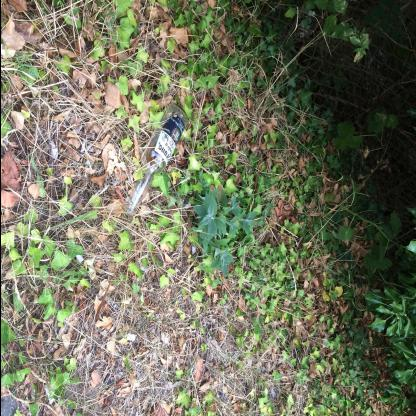cam: (122, 102, 188, 216)
